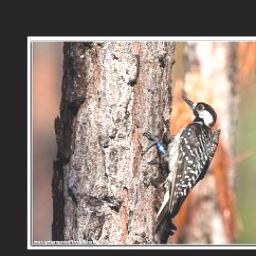Woodpecker: (132, 90, 227, 244)
